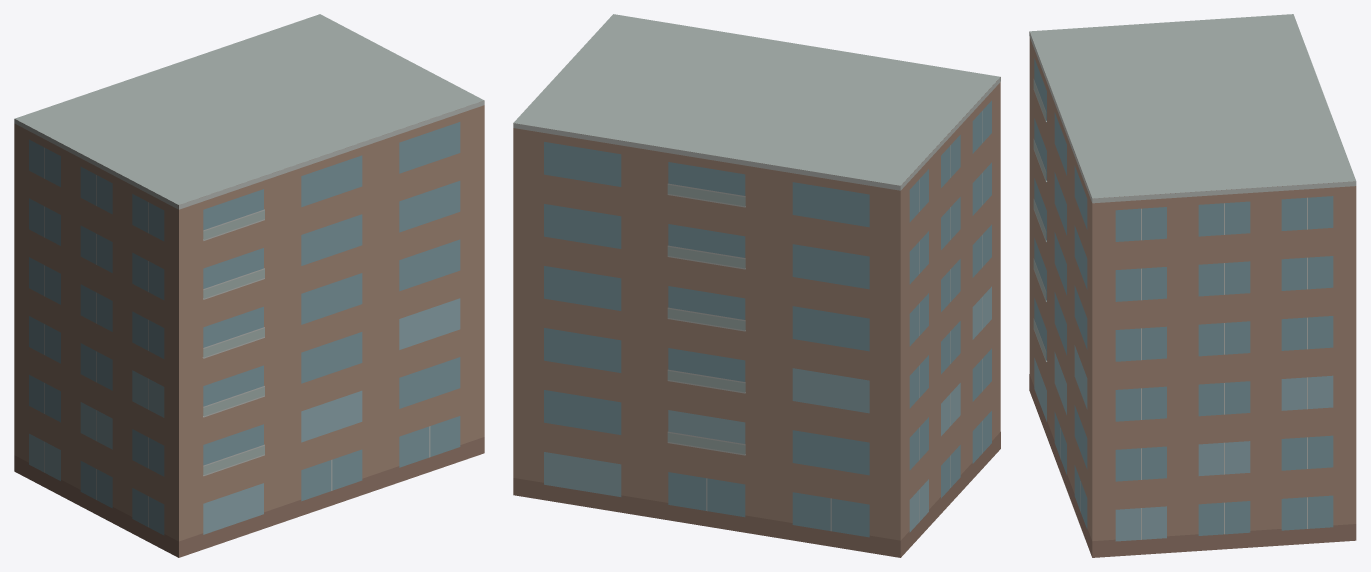
The model's file is survey-upis-32715434.glb.
3 views of the same model, side by side, from view 1: azimuth 30°, elevation 25°; view 2: azimuth 150°, elevation 25°; view 3: azimuth 270°, elevation 25° (orthographic). The views are drawn at different scales.
Visible parts, largest first — view 1: survey-upis-32715434.tmp; view 2: survey-upis-32715434.tmp; view 3: survey-upis-32715434.tmp.
Boxes of the visible parts, left/top/right/bottom form: survey-upis-32715434.tmp: left=14, top=14, right=484, bottom=557; survey-upis-32715434.tmp: left=513, top=14, right=1000, bottom=557; survey-upis-32715434.tmp: left=1029, top=14, right=1356, bottom=557.
Size of the model in its own units: 20.16 by 18.3 by 15.1.
